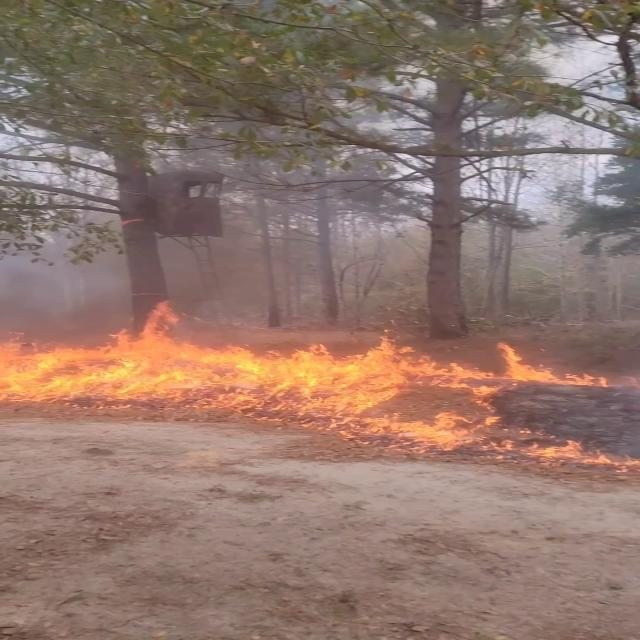Fire: (2, 301, 632, 416), (345, 409, 628, 464)
